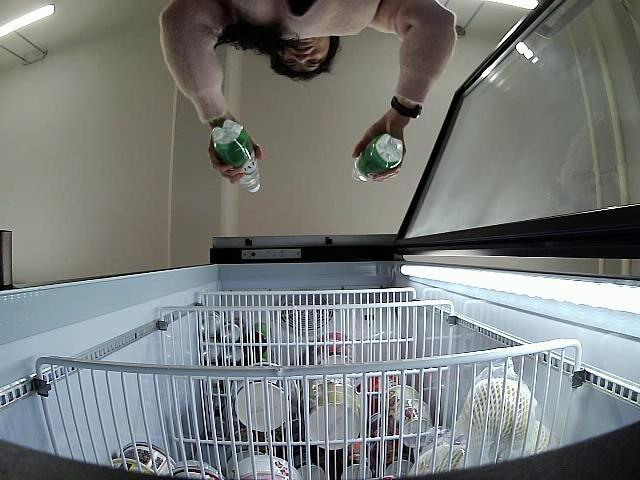18_trevi: (211, 119, 262, 193), (351, 134, 403, 187)
